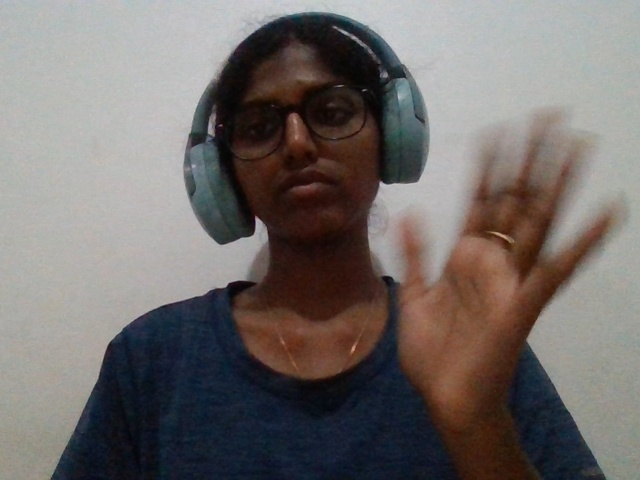Bye: (366, 91, 640, 467)
